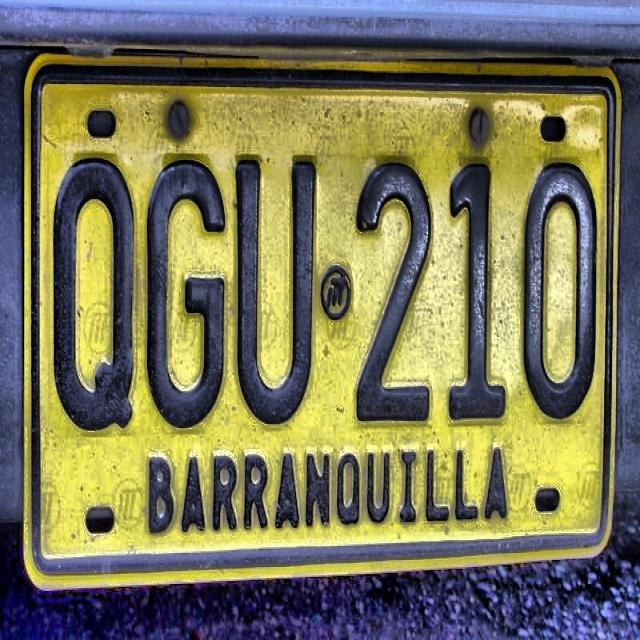plate: (22, 53, 622, 594)
